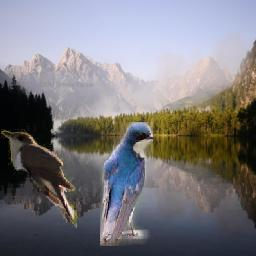Cuckoo: (1, 129, 77, 231)
Swallow: (101, 122, 154, 246)
